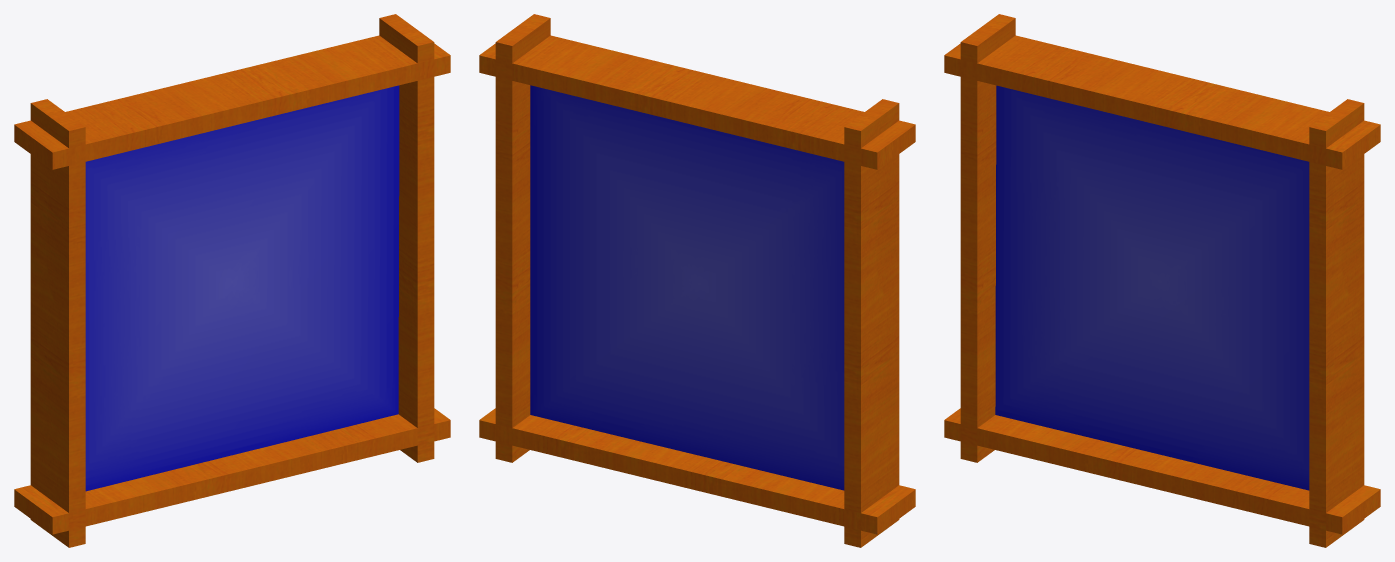
The model's file is blueTarget.fbx.
3 views of the same model, side by side, from view 1: azimuth 30°, elevation 25°; view 2: azimuth 150°, elevation 25°; view 3: azimuth 330°, elevation 25° (orthographic).
Parts seen in each view (by area): view 1: blueTarget; view 2: blueTarget; view 3: blueTarget.
Part boxes in pixels (box(x1,y1,x2,y2)): blueTarget: box(14, 14, 450, 547); blueTarget: box(479, 14, 915, 547); blueTarget: box(944, 14, 1380, 547).
Bounding box in the file's own units: 1200 × 1200 × 200.
